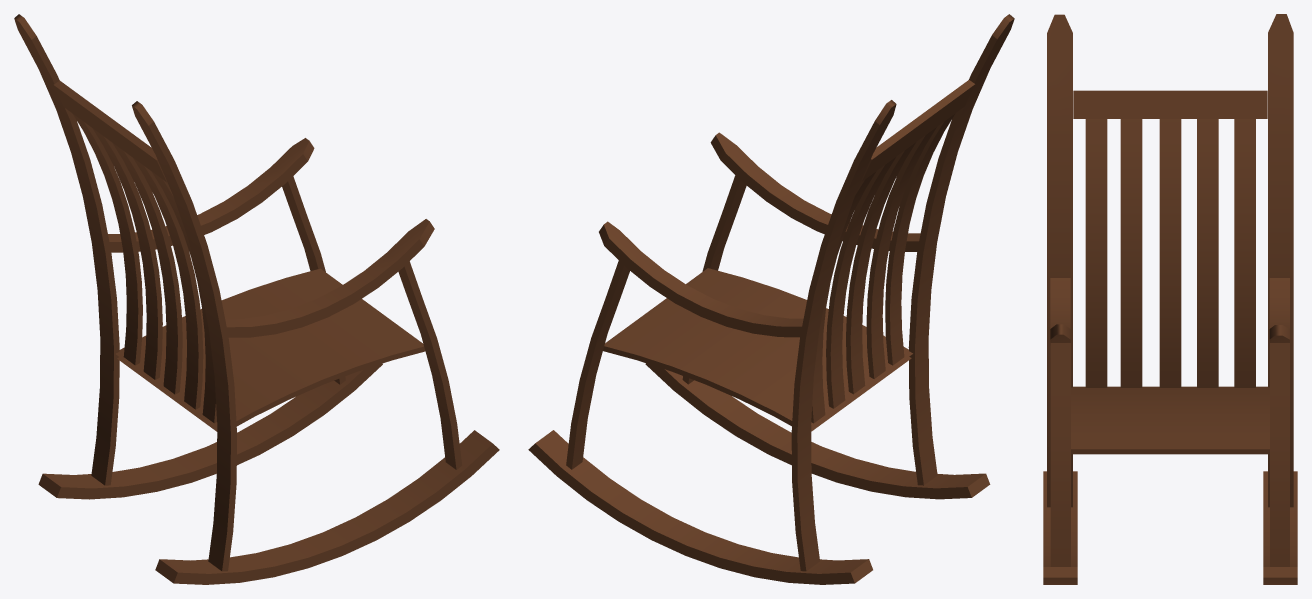
File: chairFinal.fbx
3 renders of one model, left to right at view 1: azimuth 30°, elevation 25°; view 2: azimuth 150°, elevation 25°; view 3: azimuth 270°, elevation 25°, orthographic. The views are drawn at different scales.
Visible parts, largest first — view 1: polySurface22, polySurface26, polySurface24, polySurface21, polySurface25, polySurface30, polySurface23, polySurface34, polySurface33, polySurface31, polySurface27, polySurface29 (+3 smaller); view 2: polySurface22, polySurface21, polySurface26, polySurface25, polySurface24, polySurface27, polySurface31, polySurface33, polySurface23, polySurface32, polySurface30, polySurface28 (+3 smaller); view 3: polySurface22, polySurface24, polySurface25, polySurface23, polySurface31, polySurface32, polySurface33, polySurface34, pCube6, polySurface29, polySurface28, polySurface21 (+3 smaller).
Boxes of the visible parts, x1,y1,x2,y2 form: polySurface22: [116, 268, 425, 431]; polySurface26: [155, 430, 499, 584]; polySurface24: [132, 101, 236, 571]; polySurface21: [38, 363, 382, 499]; polySurface25: [14, 14, 119, 485]; polySurface30: [225, 219, 434, 337]; polySurface23: [112, 143, 182, 394]; polySurface34: [72, 113, 142, 365]; polySurface33: [92, 128, 162, 379]; polySurface31: [133, 158, 203, 409]; polySurface27: [108, 138, 314, 252]; polySurface29: [398, 261, 462, 469]; polySurface22: [603, 268, 912, 431]; polySurface21: [528, 430, 872, 584]; polySurface26: [645, 363, 990, 499]; polySurface25: [791, 100, 896, 571]; polySurface24: [908, 14, 1014, 485]; polySurface27: [599, 221, 803, 337]; polySurface31: [866, 127, 936, 378]; polySurface33: [826, 157, 895, 408]; polySurface23: [846, 142, 916, 394]; polySurface32: [885, 113, 955, 365]; polySurface30: [710, 132, 920, 251]; polySurface28: [566, 260, 629, 469]; polySurface22: [1071, 386, 1269, 454]; polySurface24: [1047, 14, 1072, 507]; polySurface25: [1268, 14, 1293, 507]; polySurface23: [1159, 119, 1181, 387]; polySurface31: [1120, 119, 1142, 387]; polySurface32: [1085, 119, 1107, 387]; polySurface33: [1197, 119, 1218, 387]; polySurface34: [1234, 119, 1255, 387]; pCube6: [1073, 90, 1267, 118]; polySurface29: [1050, 343, 1070, 566]; polySurface28: [1270, 343, 1289, 566]; polySurface21: [1263, 471, 1297, 584].
Bounding box in the file's own units: 7.47 × 10 × 4.91.
